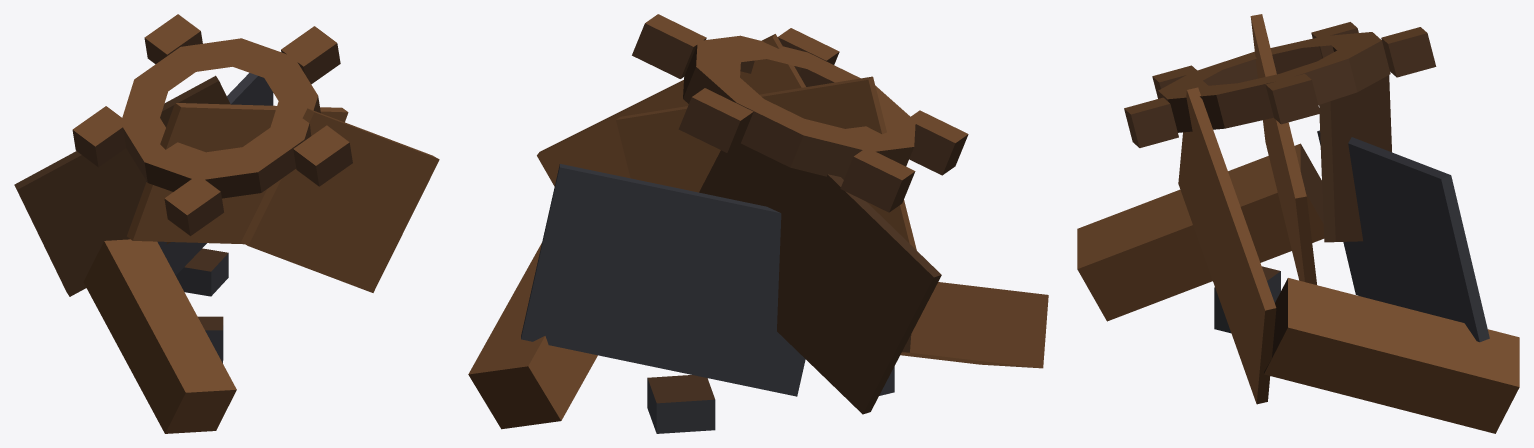
The model's file is scrap-pile.glb.
3 views of the same model, side by side, from view 1: azimuth 30°, elevation 25°; view 2: azimuth 150°, elevation 25°; view 3: azimuth 270°, elevation 25° (orthographic). The views are drawn at different scales.
Parts seen in each view (by area): view 1: ScrapPile; view 2: ScrapPile; view 3: ScrapPile.
Part boxes in pixels (x1,y1,x2,y2): ScrapPile: (14,14,439,433); ScrapPile: (468,14,1048,433); ScrapPile: (1077,14,1519,433).
Size of the model in its own units: 0.8665 by 0.6543 by 0.7535.
1 material, 1 textured.
